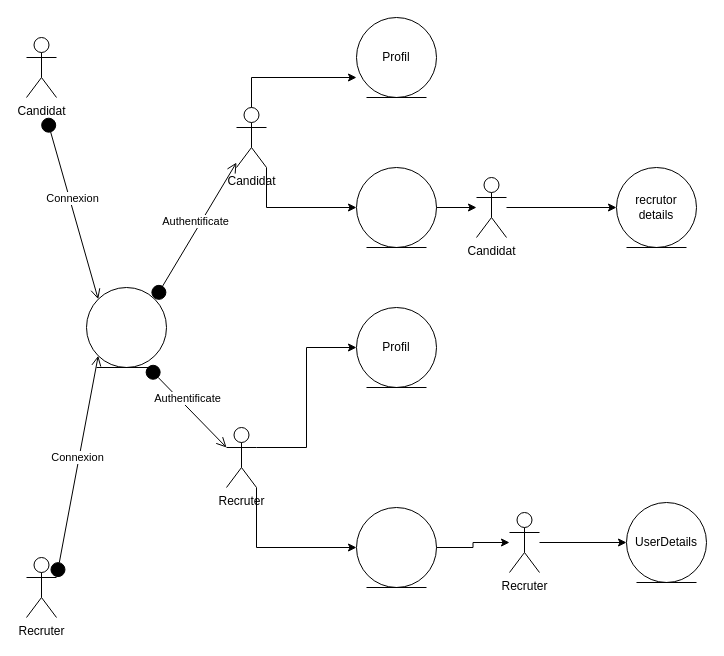
This 724x656 diagram has some shape labels left out. Here are the shapes that lost their labels. From the top down, the box of each, then its label:
(356, 166, 436, 248): All recrutor
(86, 286, 166, 368): Login Subscribe
(356, 506, 436, 588): Candidatures
